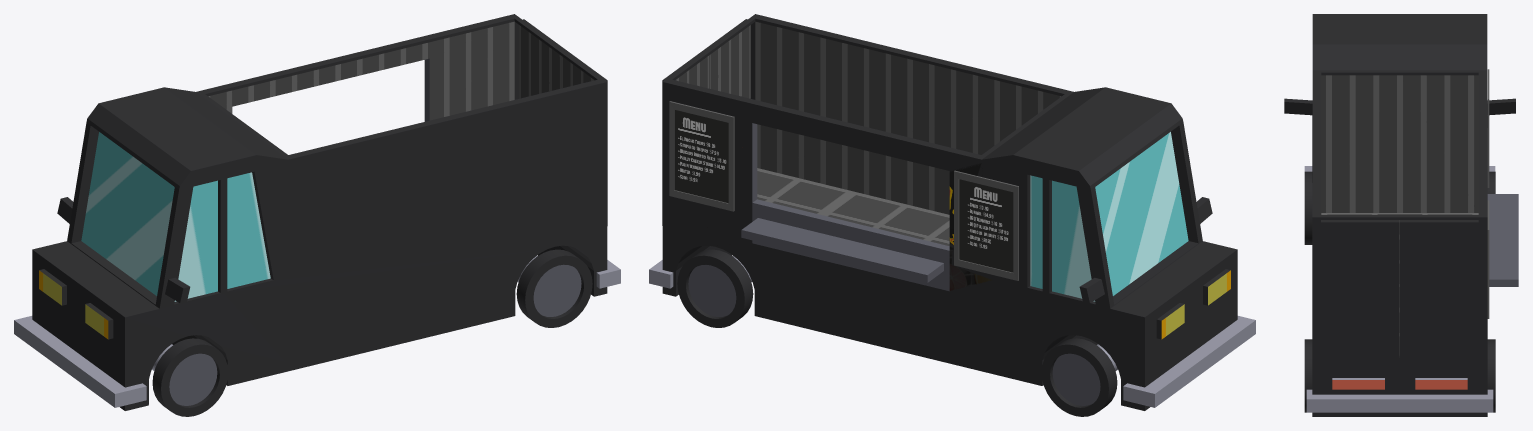
File: FoodTruckB.fbx
3 renders of one model, left to right at view 1: azimuth 30°, elevation 25°; view 2: azimuth 150°, elevation 25°; view 3: azimuth 270°, elevation 25°, orthographic. The views are drawn at different scales.
Visible parts, largest first — view 1: Body.009, WBR.005, WFR.005, Door R.002, Door L.002; view 2: Body.009, Truck Menu.001, Truck Menu.002, WBL.005, WFL.005, Door L.002, Decal, Door R.002; view 3: Body.009, Door R.002, Door L.002, WFR.005, WBR.005, WBL.005, Truck Menu.001, Truck Menu.002.
Part boxes in pixels (<box>): Body.009: <box>14,14,620,410</box>; WBR.005: <box>516,249,592,327</box>; WFR.005: <box>152,338,228,416</box>; Door R.002: <box>519,19,565,98</box>; Door L.002: <box>561,50,607,225</box>; Body.009: <box>649,14,1255,410</box>; Truck Menu.001: <box>669,101,734,211</box>; Truck Menu.002: <box>954,170,1018,280</box>; WBL.005: <box>677,249,753,327</box>; WFL.005: <box>1041,338,1117,416</box>; Door L.002: <box>704,19,750,98</box>; Decal: <box>949,163,992,290</box>; Door R.002: <box>662,49,708,225</box>; Body.009: <box>1284,14,1518,416</box>; Door R.002: <box>1400,220,1478,359</box>; Door L.002: <box>1321,220,1399,359</box>; WFR.005: <box>1304,171,1312,244</box>; WBR.005: <box>1304,339,1312,412</box>; WBL.005: <box>1487,339,1495,412</box>; Truck Menu.001: <box>1487,200,1489,318</box>; Truck Menu.002: <box>1487,69,1489,187</box>.
Size of the model in its own units: 631 by 287 by 268.
Materials: 6 (6 with a texture image).
